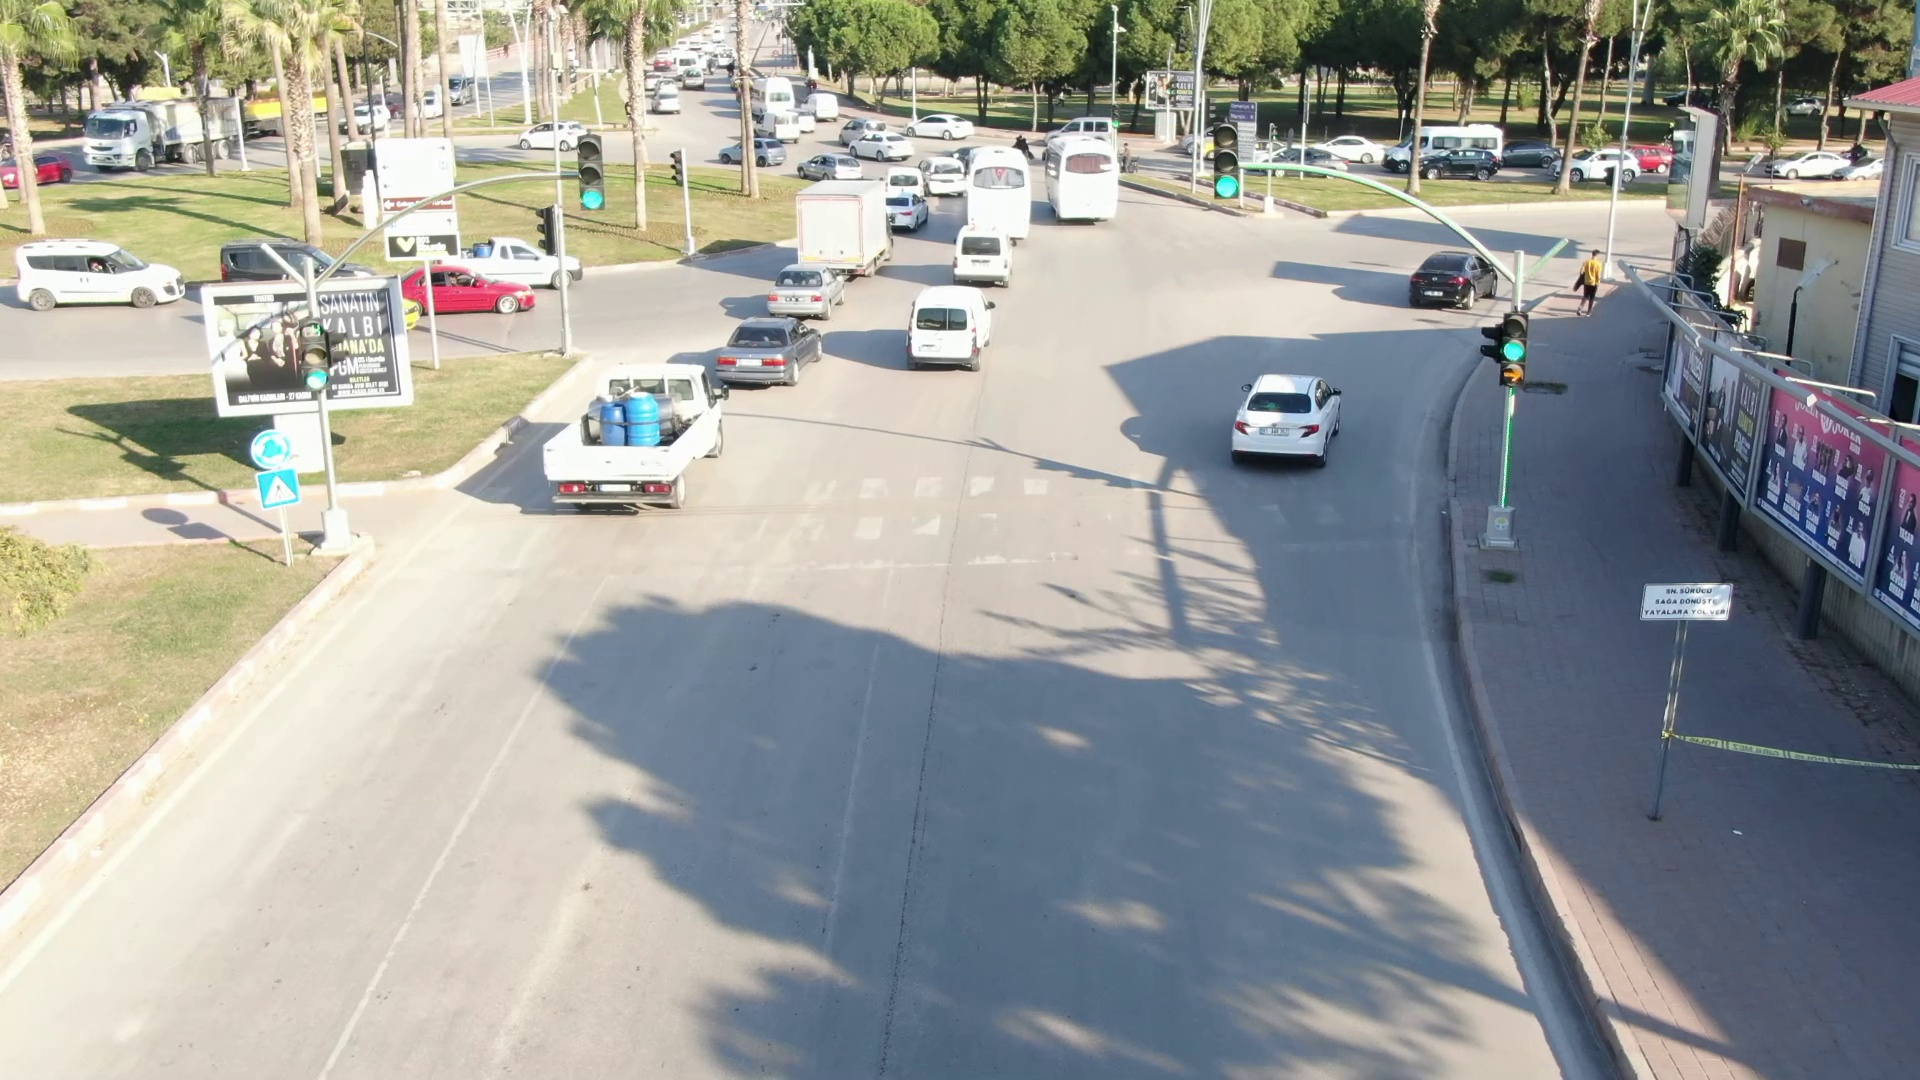car: (527, 358, 725, 523), (6, 215, 201, 336), (1212, 360, 1358, 473), (1391, 228, 1519, 332), (895, 269, 1008, 378), (399, 245, 538, 328), (703, 304, 825, 395), (943, 215, 1036, 295), (789, 146, 865, 186), (903, 108, 976, 146)
person: (1562, 215, 1612, 315)
